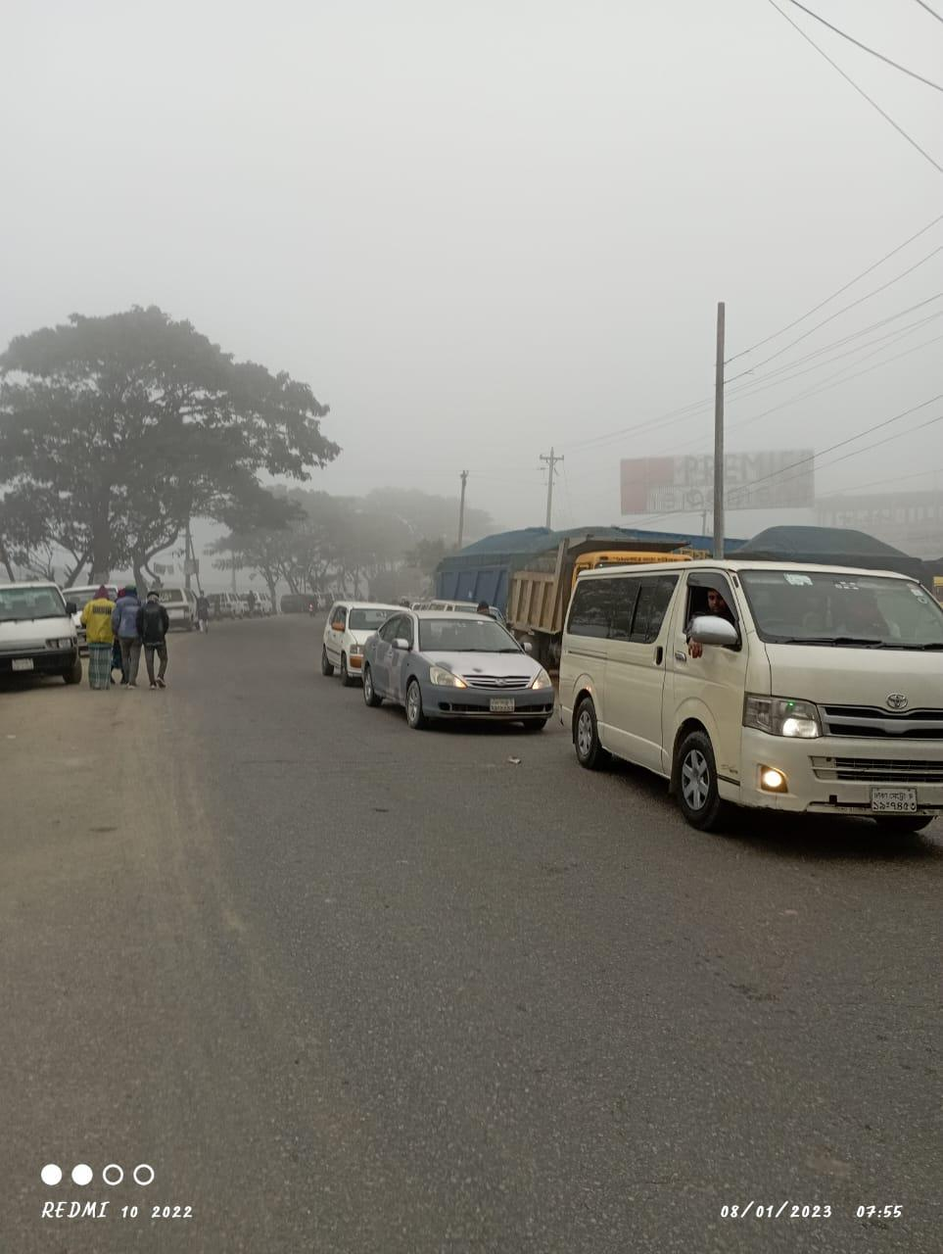Car: (558, 559, 943, 844), (360, 606, 561, 738), (1, 571, 87, 689), (315, 595, 372, 686), (143, 583, 201, 630)
